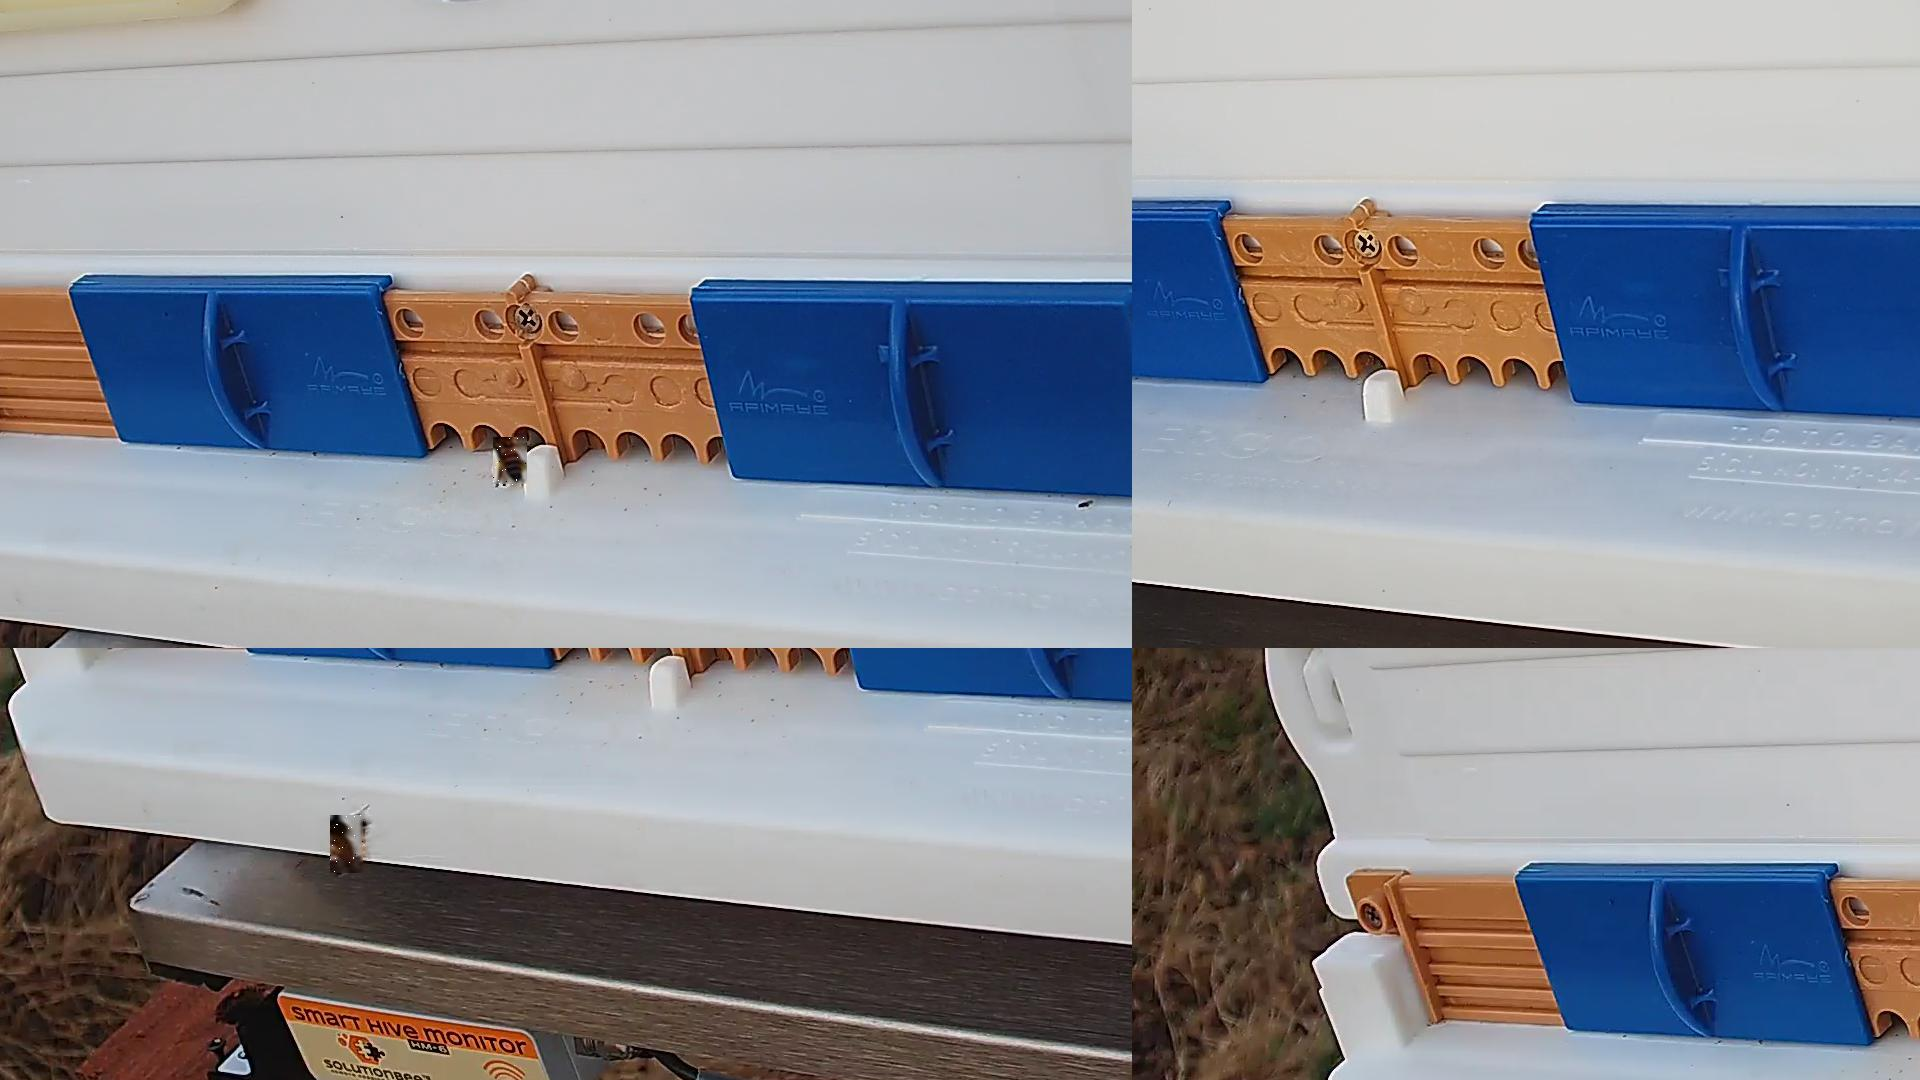bee: (331, 815, 367, 874)
pollenbee: (493, 438, 527, 487)
